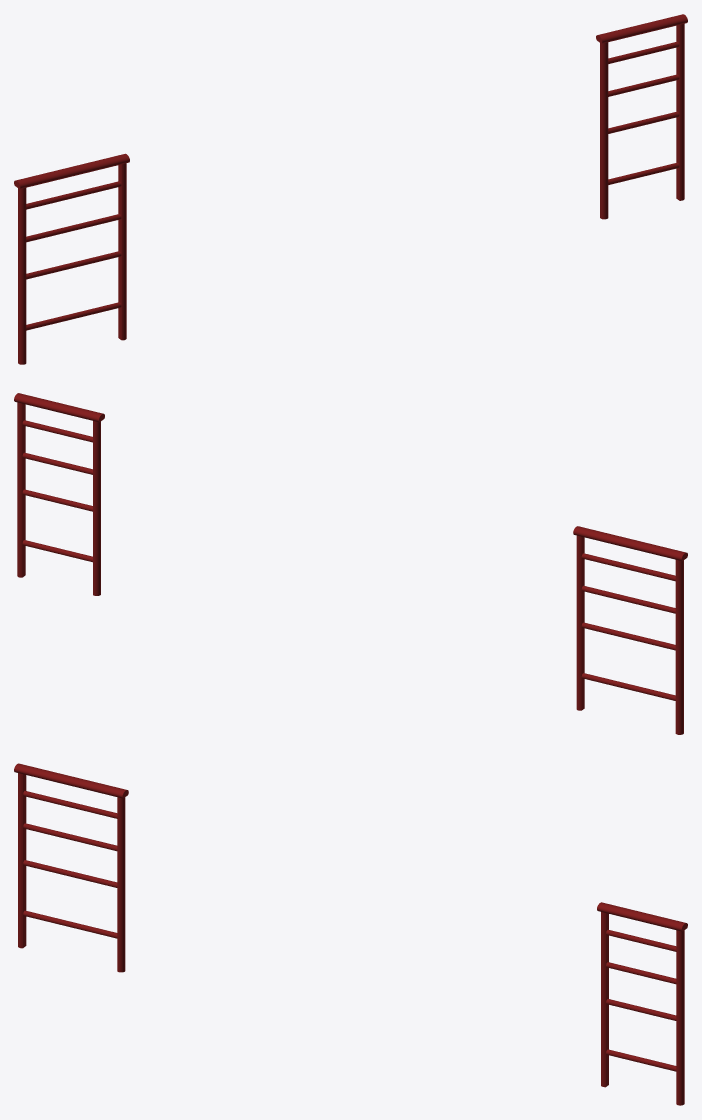
Rendered from bariere portique badge.fbx.
3 renders of one model, top to bottom at view 1: azimuth 30°, elevation 25°; view 2: azimuth 150°, elevation 25°; view 3: azimuth 330°, elevation 25°, orthographic.
Visible parts, largest first — view 1: Cylinder010; view 2: Cylinder010; view 3: Cylinder010.
Boxes of the visible parts, <box> form: Cylinder010: <box>14,14,687,364</box>; Cylinder010: <box>14,393,687,734</box>; Cylinder010: <box>14,763,687,1105</box>.
Bounding box in the file's own units: 3.06 × 0.0773 × 0.7965.
